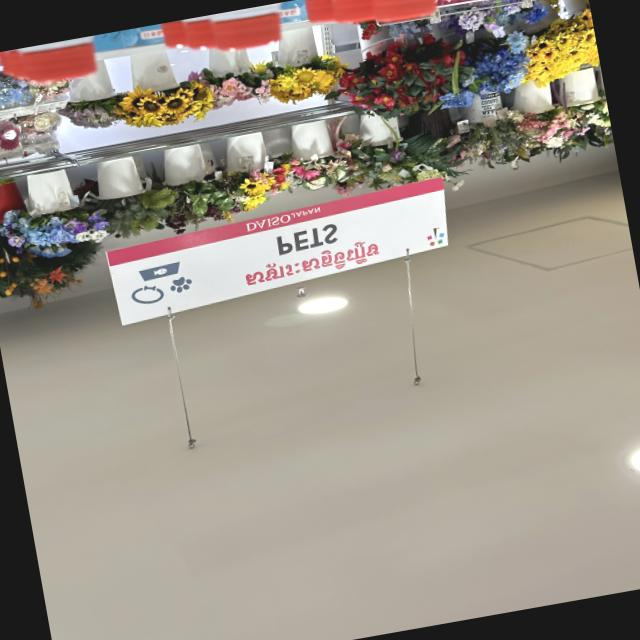Yolov11kh: (234, 236, 387, 292)
